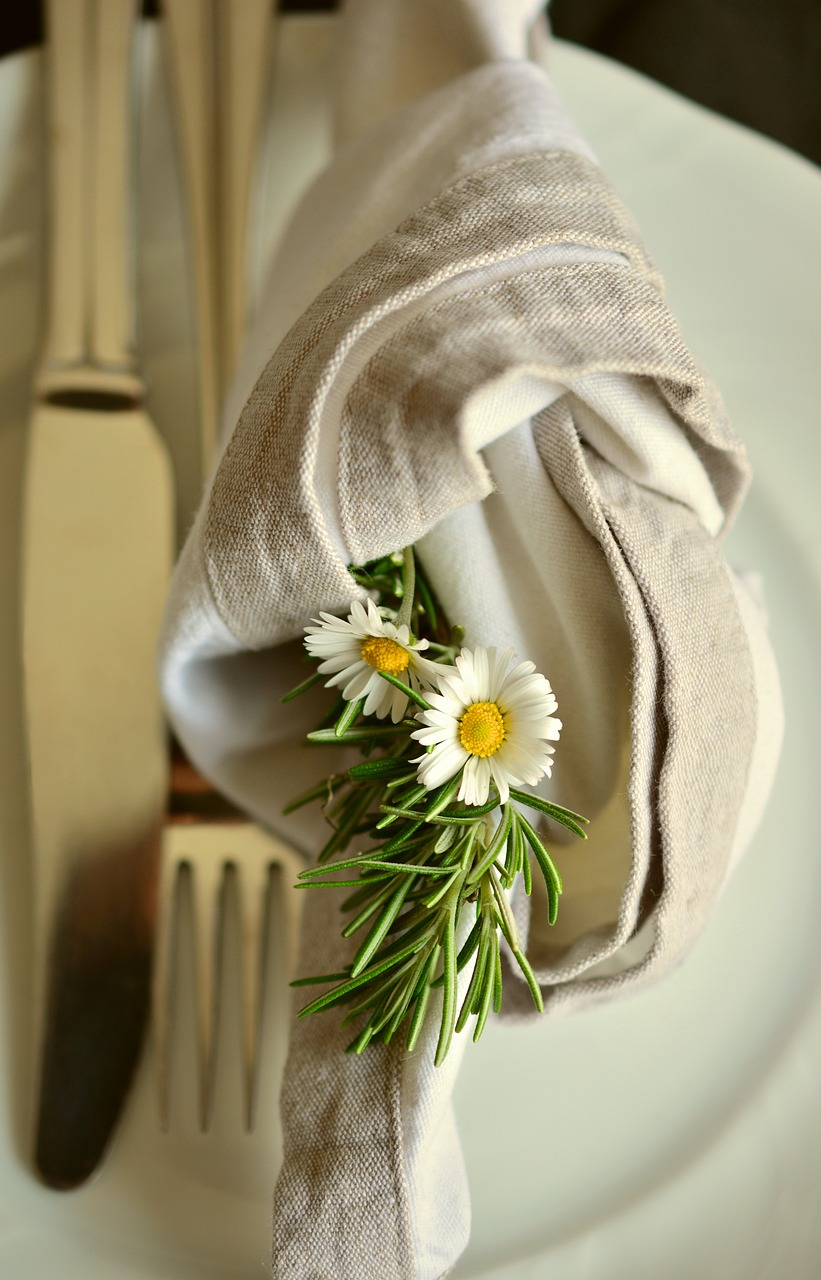knife: (18, 0, 180, 1204)
